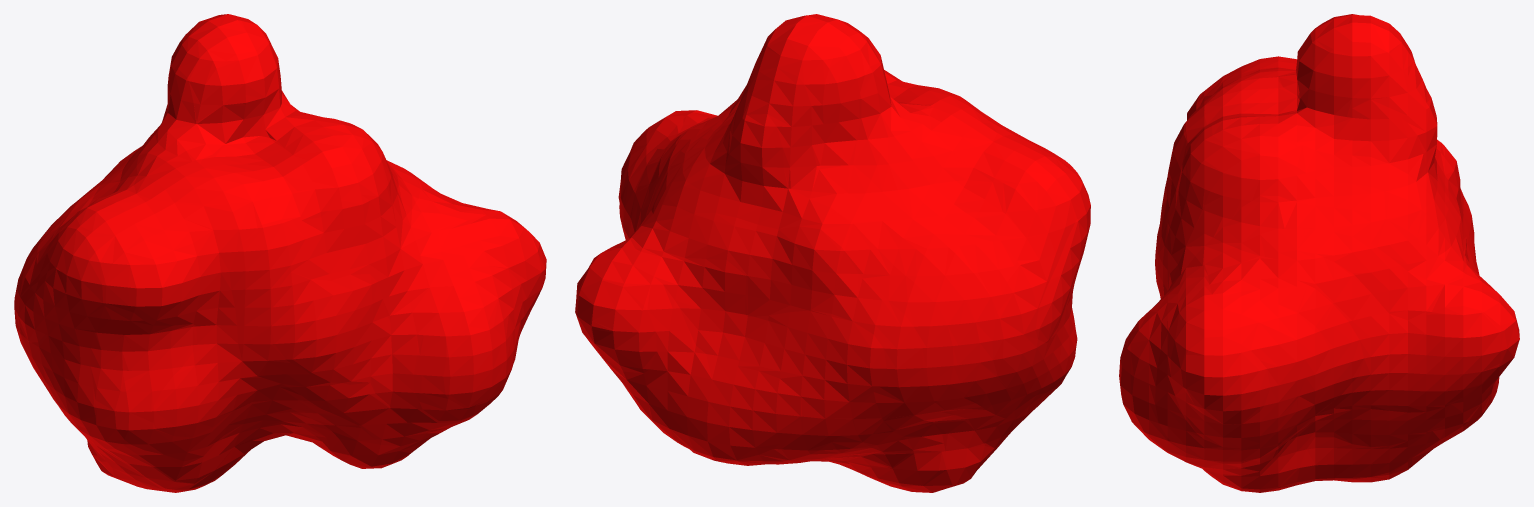
Rendered from Ras_related_protein_Rab_14_coarse.dae.
3 views of the same model, side by side, from view 1: azimuth 30°, elevation 25°; view 2: azimuth 150°, elevation 25°; view 3: azimuth 270°, elevation 25° (orthographic). The views are drawn at different scales.
Visible parts, largest first — view 1: Ras_related_protein_Rab_14; view 2: Ras_related_protein_Rab_14; view 3: Ras_related_protein_Rab_14.
Part boxes in pixels (x1=…): Ras_related_protein_Rab_14: x1=14, y1=14, x2=546, y2=492; Ras_related_protein_Rab_14: x1=575, y1=14, x2=1090, y2=492; Ras_related_protein_Rab_14: x1=1119, y1=14, x2=1519, y2=492.
Bounding box in the file's own units: 50.43 × 45.48 × 38.43.
